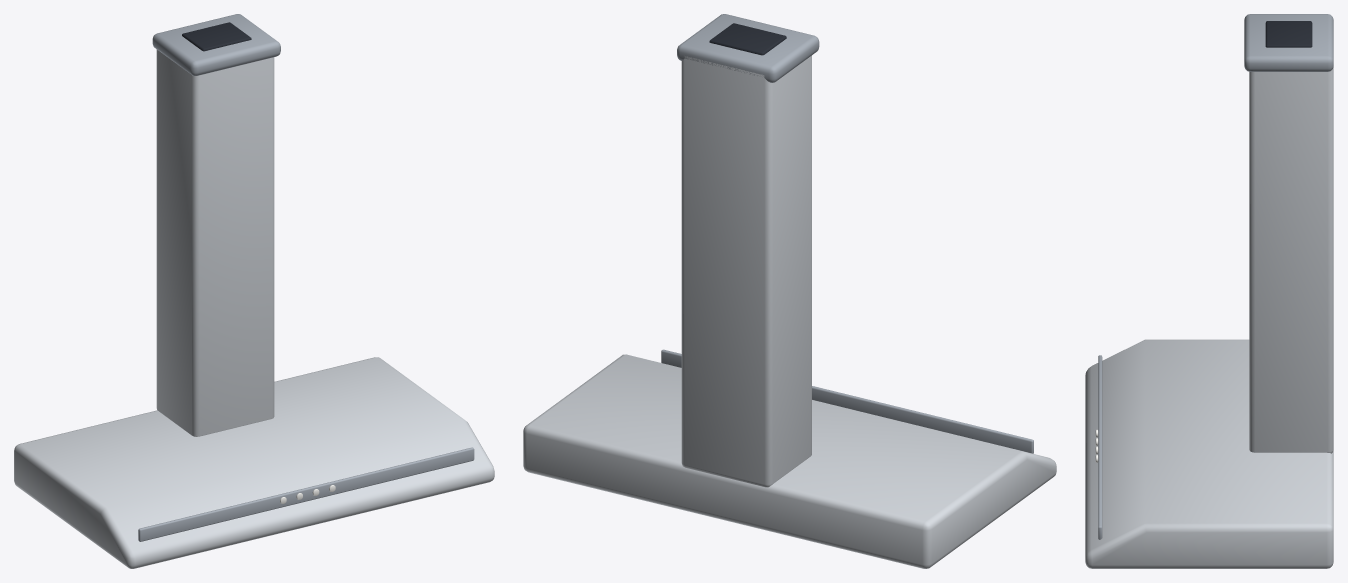
File: coifa_t_inclinada_inox.glb
3 renders of one model, left to right at view 1: azimuth 30°, elevation 25°; view 2: azimuth 150°, elevation 25°; view 3: azimuth 270°, elevation 25°, orthographic. The views are drawn at different scales.
Parts seen in each view (by area): view 1: coifa_t_inclinada_inox; view 2: coifa_t_inclinada_inox; view 3: coifa_t_inclinada_inox.
Part boxes in pixels (x1=…): coifa_t_inclinada_inox: x1=14, y1=14, x2=494, y2=568; coifa_t_inclinada_inox: x1=523, y1=14, x2=1056, y2=568; coifa_t_inclinada_inox: x1=1085, y1=14, x2=1333, y2=568.
Size of the model in its own units: 0.9 by 0.989 by 0.5.
Materials: 2 (1 with a texture image).
